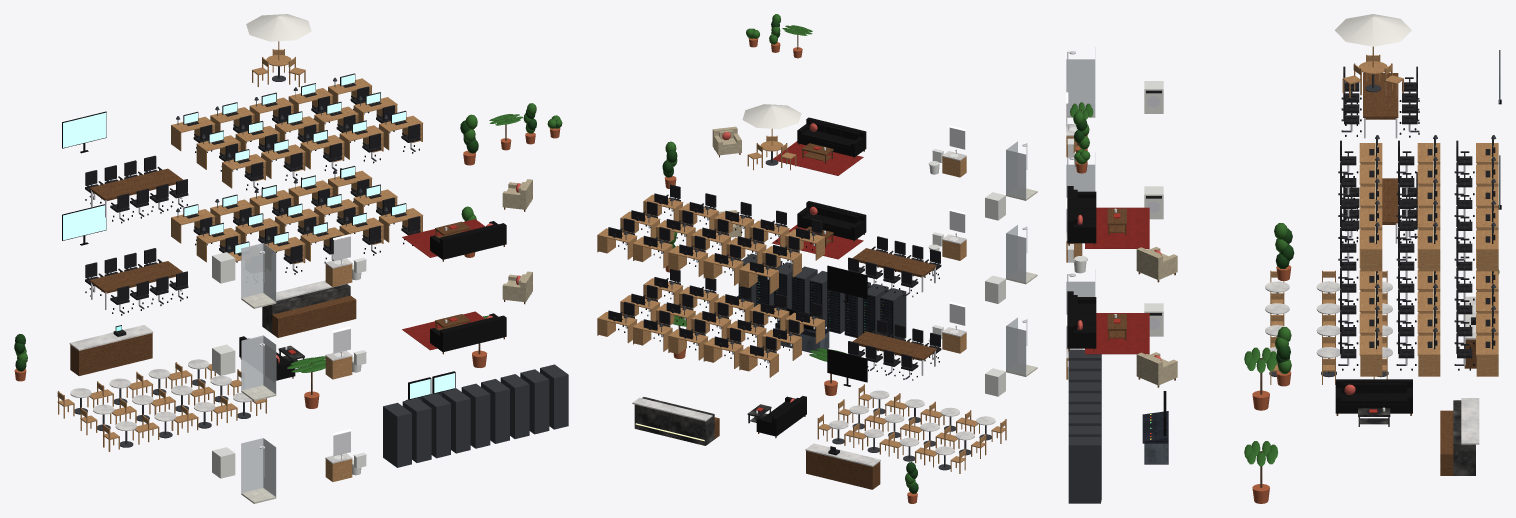
File: i_startup_hq.gltf
3 views of the same model, side by side, from view 1: azimuth 30°, elevation 25°; view 2: azimuth 150°, elevation 25°; view 3: azimuth 270°, elevation 25° (orthographic). The views are drawn at different scales.
Parts seen in each view (by area): view 1: I_startup_hq; view 2: I_startup_hq; view 3: I_startup_hq.
Boxes of the visible parts, <box> form: I_startup_hq: <box>14,14,568,503</box>; I_startup_hq: <box>597,14,1037,503</box>; I_startup_hq: <box>1066,14,1501,503</box>.
Size of the model in its own units: 15.88 by 13.65 by 13.49.
36 materials, 11 textured.
